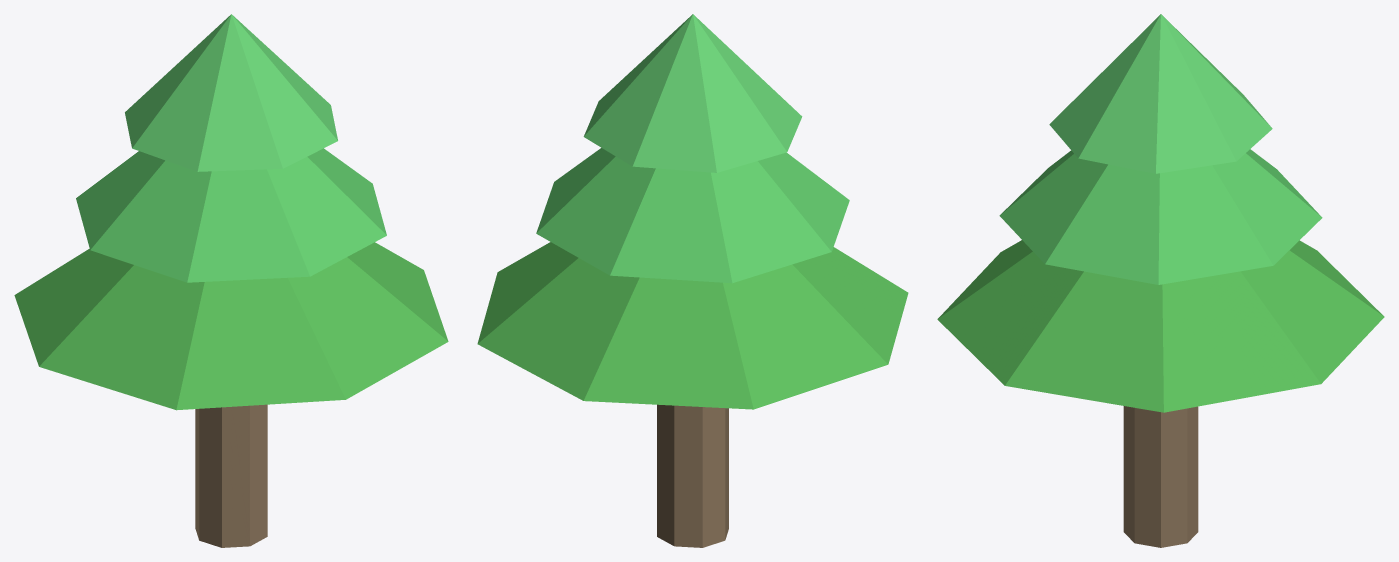
The model's file is tree1.glb.
The picture shows the model from 3 angles, left to right: view 1: azimuth 30°, elevation 25°; view 2: azimuth 150°, elevation 25°; view 3: azimuth 270°, elevation 25°; orthographic projection.
Visible parts, largest first — view 1: Canopy_0.95, Canopy_1.40, Canopy_1.80, Trunk; view 2: Canopy_0.95, Canopy_1.40, Canopy_1.80, Trunk; view 3: Canopy_0.95, Canopy_1.40, Canopy_1.80, Trunk.
Part boxes in pixels (bbox=[...]): Canopy_0.95: bbox=[14, 242, 448, 410]; Canopy_1.40: bbox=[76, 148, 386, 282]; Canopy_1.80: bbox=[125, 14, 337, 171]; Trunk: bbox=[195, 404, 267, 547]; Canopy_0.95: bbox=[477, 242, 908, 409]; Canopy_1.40: bbox=[536, 148, 849, 283]; Canopy_1.80: bbox=[583, 14, 802, 172]; Trunk: bbox=[657, 404, 728, 547]; Canopy_0.95: bbox=[937, 240, 1384, 412]; Canopy_1.40: bbox=[999, 149, 1322, 284]; Canopy_1.80: bbox=[1049, 14, 1272, 173]; Trunk: bbox=[1123, 406, 1198, 547].
Size of the model in its own units: 1.8 by 2.3 by 1.8.
